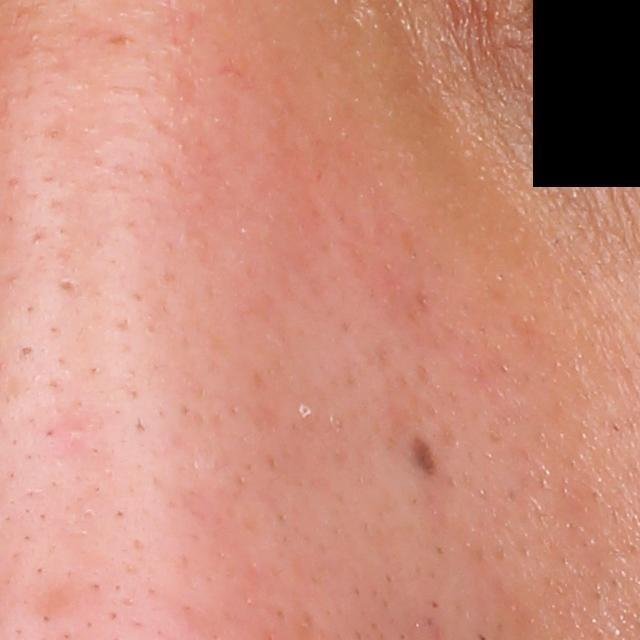comedo: (21, 343, 34, 355)
nevus: (404, 430, 442, 492)
